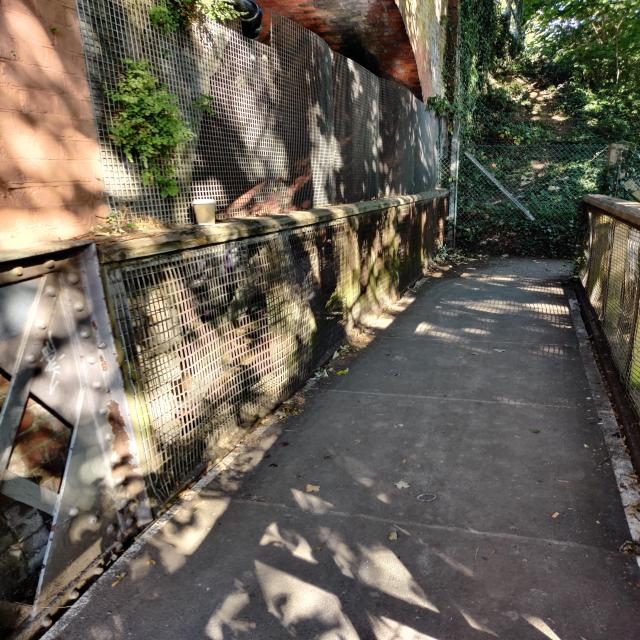litter: (189, 195, 220, 227)
